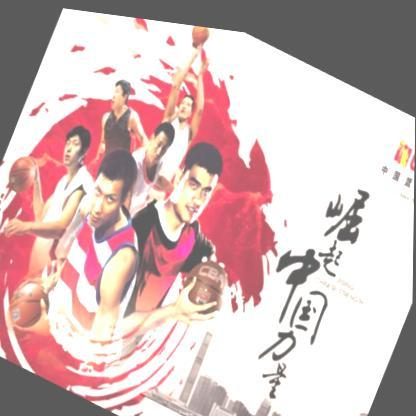basketball: (170, 236, 241, 330), (0, 267, 60, 350), (3, 149, 41, 198), (179, 19, 221, 51)
